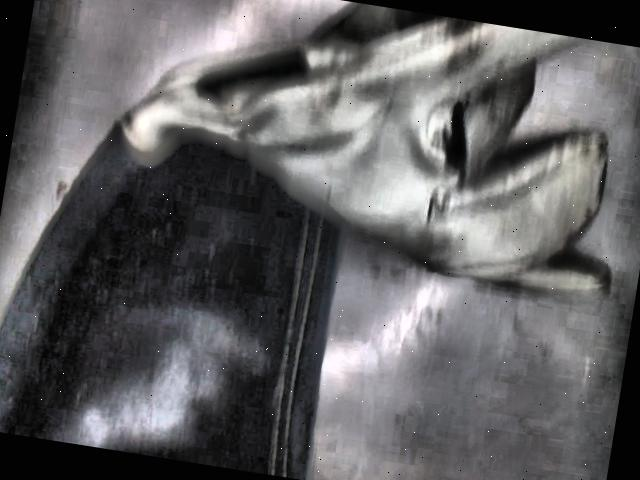Almennt: (0, 2, 609, 480)
